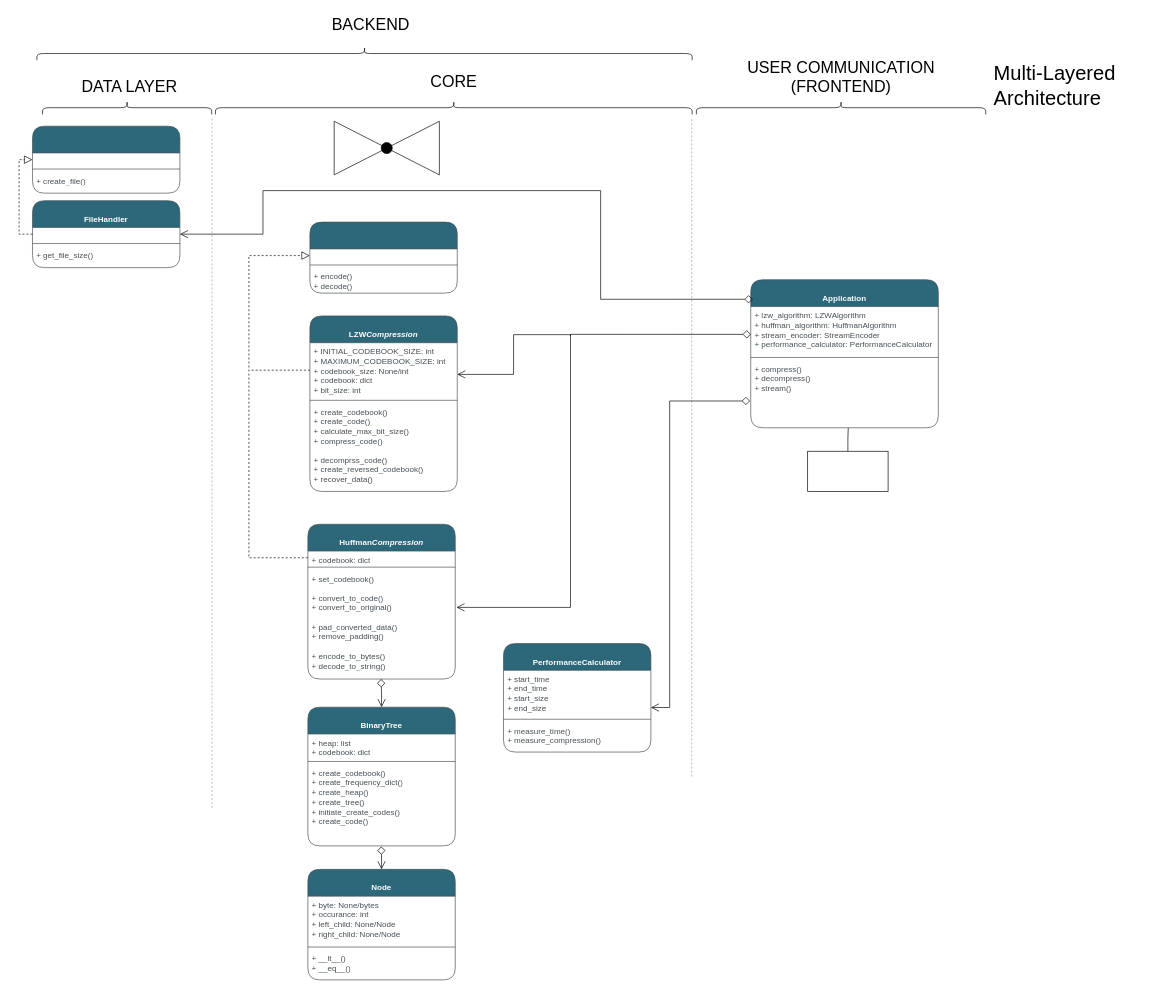
This 1174x993 diagram has some shape labels left out. The box of each missing label's shape, as (x1, y1, x2, y2) in pixels:
<< abstract >> CompressionABC: (309, 221, 457, 293)
<< abstract >> FileHandlerABC: (32, 125, 180, 193)
main.py: (807, 451, 888, 491)
